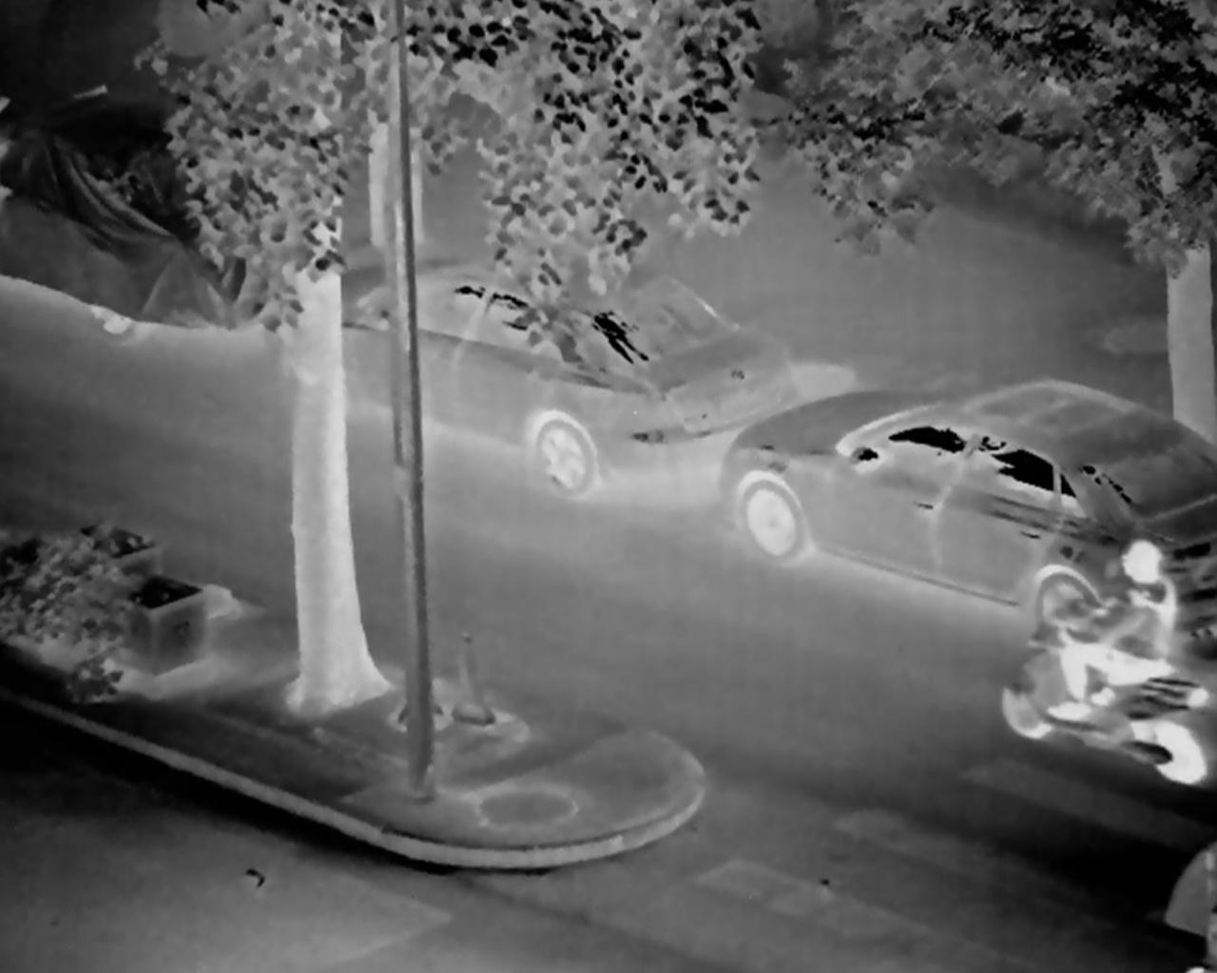person: (1053, 534, 1177, 724)
